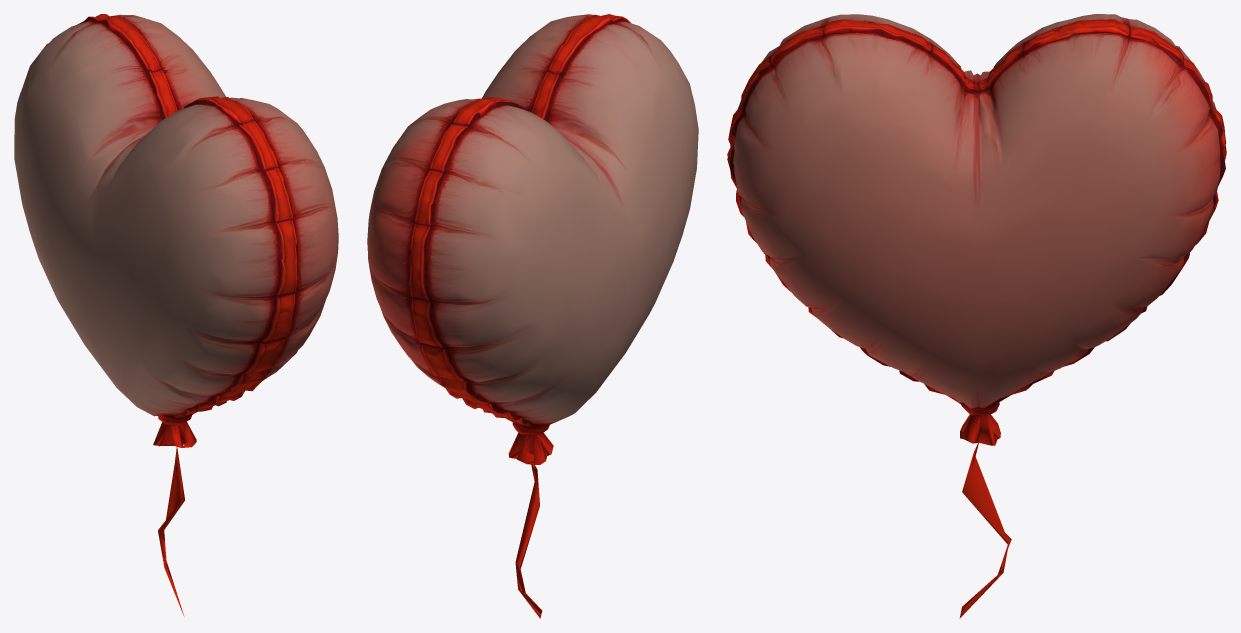
Rendered from balloon.glb.
3 renders of one model, left to right at view 1: azimuth 30°, elevation 25°; view 2: azimuth 150°, elevation 25°; view 3: azimuth 270°, elevation 25°, orthographic. The views are drawn at different scales.
Parts seen in each view (by area): view 1: tripo_node_4c141edc-77de-49ae-aafc-24f249a49b87; view 2: tripo_node_4c141edc-77de-49ae-aafc-24f249a49b87; view 3: tripo_node_4c141edc-77de-49ae-aafc-24f249a49b87.
Part boxes in pixels (bbox=[...]): tripo_node_4c141edc-77de-49ae-aafc-24f249a49b87: bbox=[14, 14, 338, 616]; tripo_node_4c141edc-77de-49ae-aafc-24f249a49b87: bbox=[367, 14, 698, 618]; tripo_node_4c141edc-77de-49ae-aafc-24f249a49b87: bbox=[727, 14, 1226, 618].
Bounding box in the file's own units: 0.3526 × 0.9605 × 0.73.
Materials: 1 (1 with a texture image).
